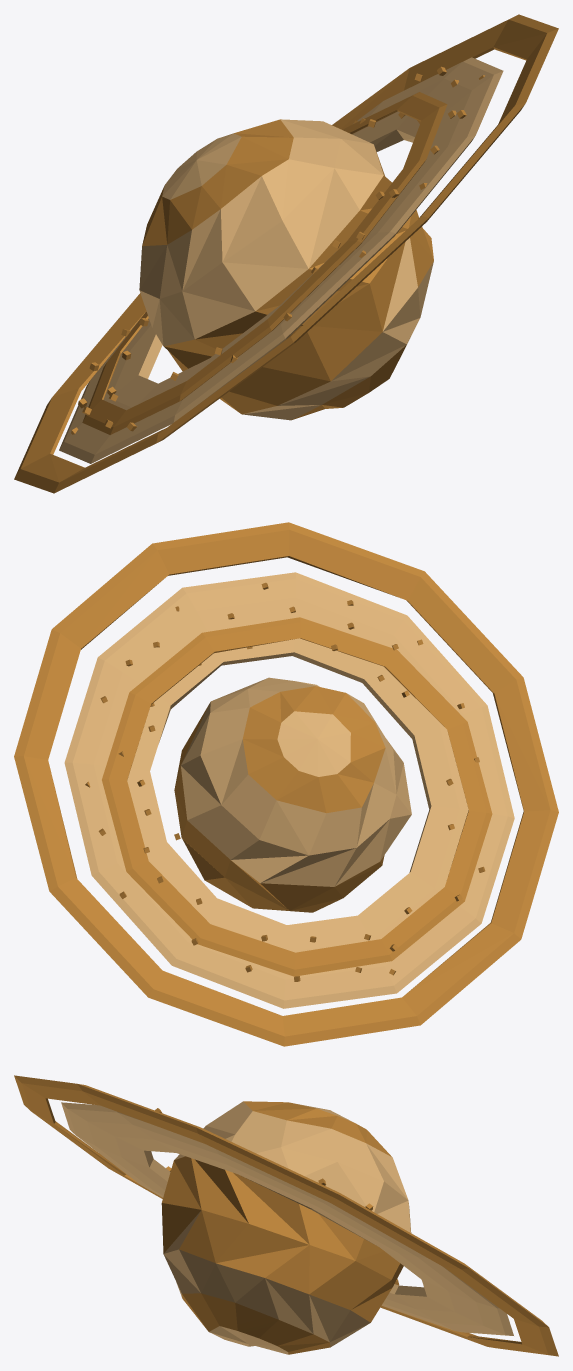
The model's file is saturn.glb.
3 renders of one model, top to bottom at view 1: azimuth 30°, elevation 25°; view 2: azimuth 150°, elevation 25°; view 3: azimuth 270°, elevation 25°, orthographic. The views are drawn at different scales.
Visible parts, largest first — view 1: node_MeshObject-1137997312-PolyPaper19; view 2: node_MeshObject-1137997312-PolyPaper19; view 3: node_MeshObject-1137997312-PolyPaper19.
Part boxes in pixels (<box>): node_MeshObject-1137997312-PolyPaper19: <box>14,14,558,493</box>; node_MeshObject-1137997312-PolyPaper19: <box>14,522,558,1046</box>; node_MeshObject-1137997312-PolyPaper19: <box>14,1075,558,1356</box>.
Bounding box in the file's own units: 1.66 × 1.27 × 1.72.
